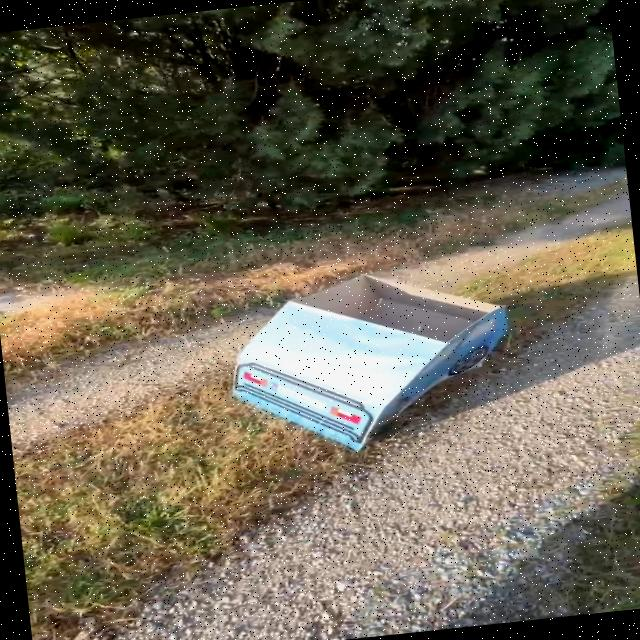blue_car: (201, 236, 590, 494)
